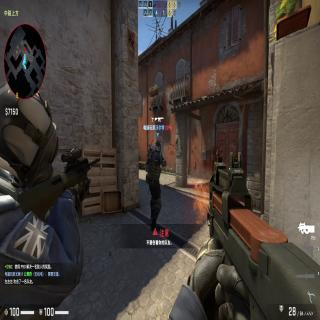CT-Head: (156, 139, 162, 150)
